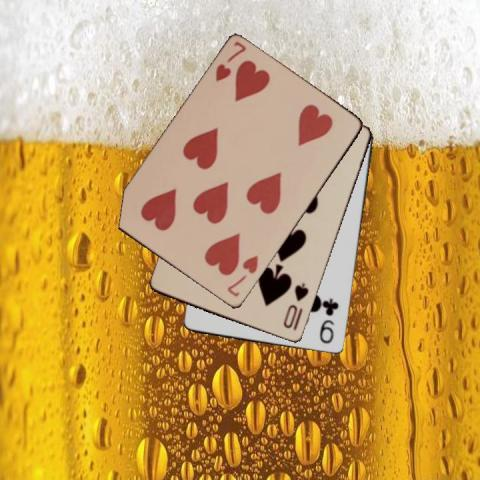10s: (280, 281, 310, 331)
7h: (224, 252, 260, 299), (212, 39, 248, 83)
9c: (318, 296, 341, 345)
